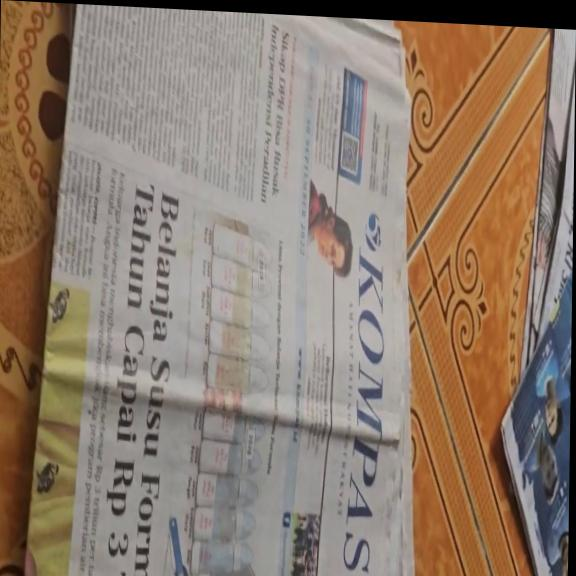Kertas: (69, 8, 409, 576)
